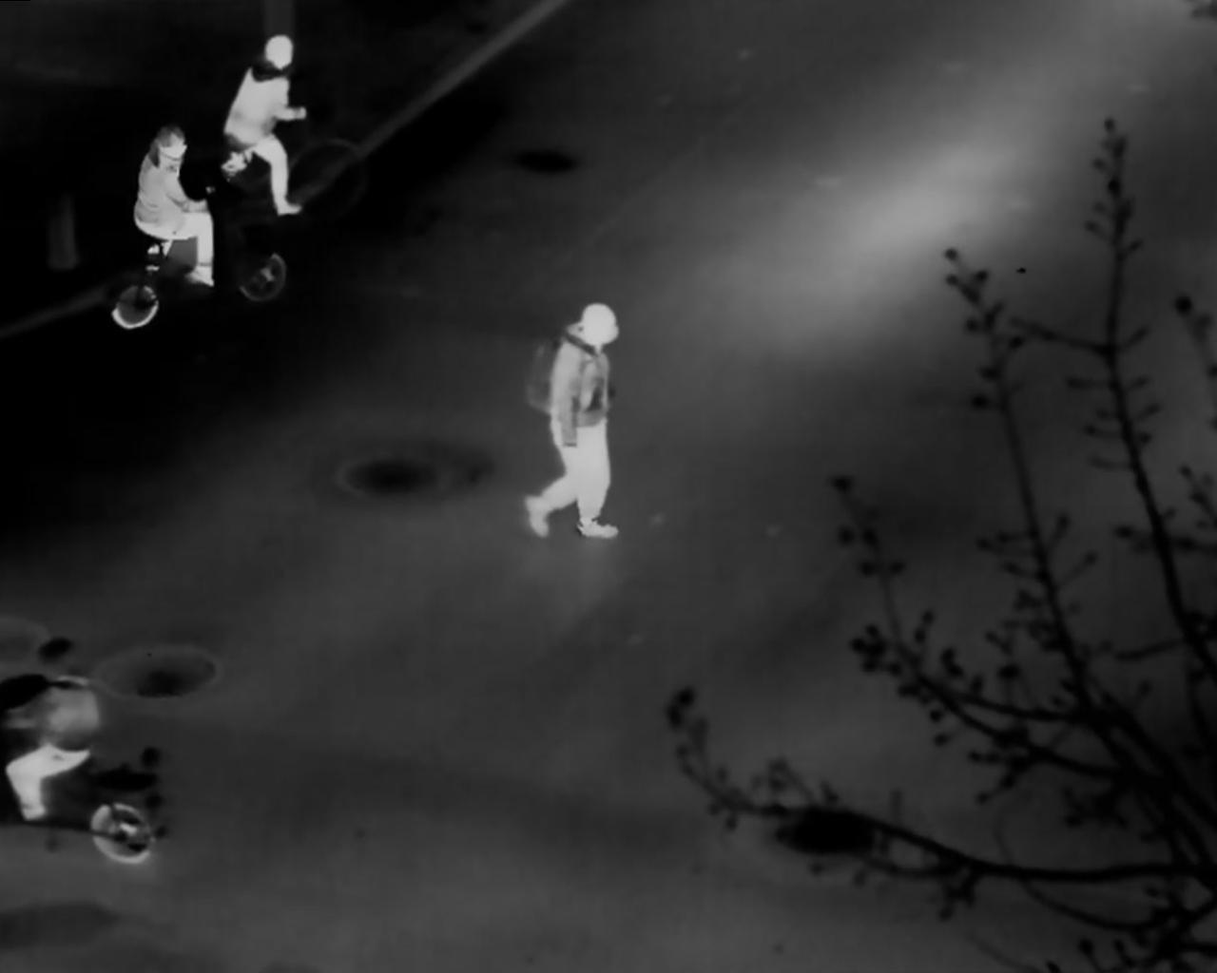person: (522, 301, 622, 541), (6, 635, 99, 823), (222, 31, 309, 215), (128, 124, 214, 288)
